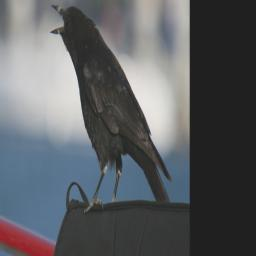Crow: (48, 0, 173, 219)
